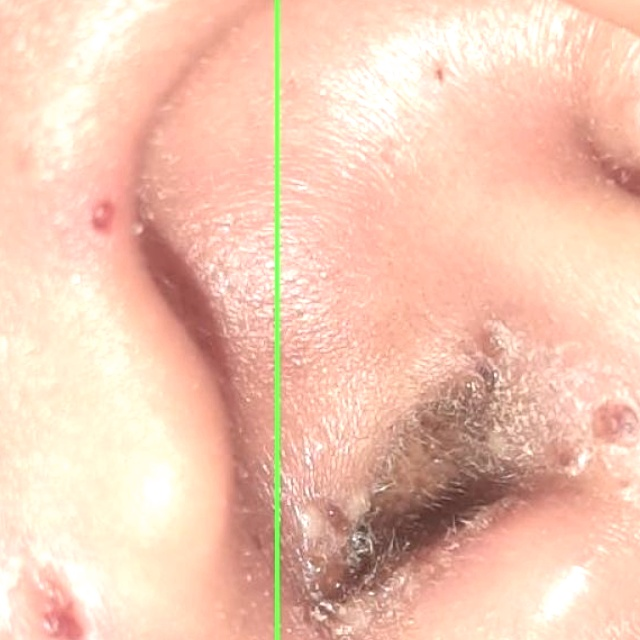Contact Dermatitis: (0, 0, 278, 639)
